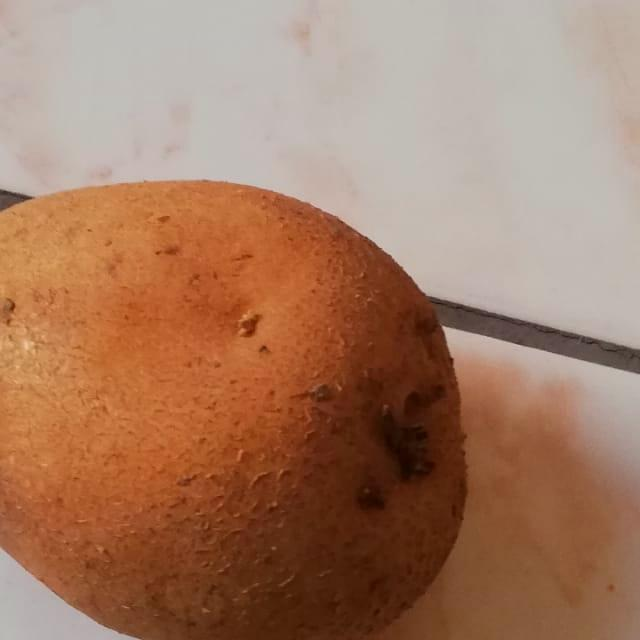potato: (0, 162, 485, 640)
